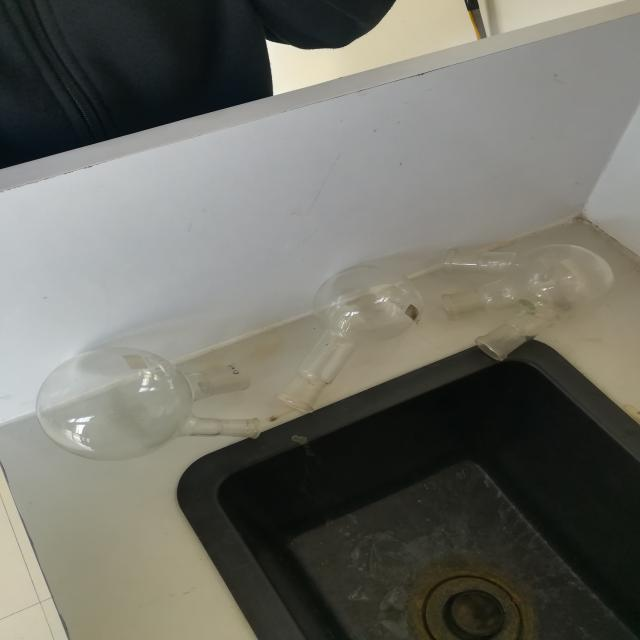Round_Bottom_Flask_Borosilicate_Glass_1_Neck: (284, 258, 428, 435)
Round_Bottom_Flask_Borosilicate_Glass_2_Neck: (18, 320, 285, 468)
Round_Bottom_Flask_Borosilicate_Glass_3_Neck: (407, 206, 640, 380)
